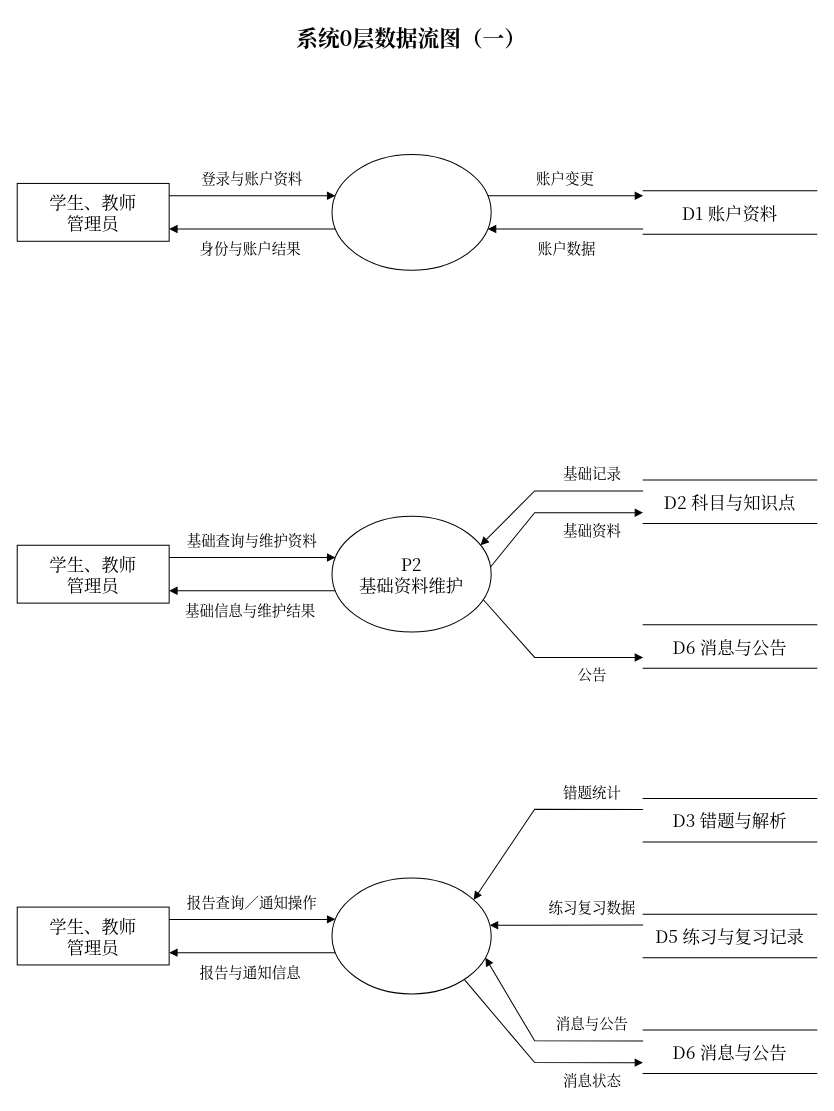
Some shapes in this 834 by 1111 pixel diagram are drawn without their labels. Here are the shapes that lost their labels. From the top down, the centre of each, then its label:
(x=411, y=211): P1 认证与账户管理
(x=411, y=935): P5 学情与通知处理
